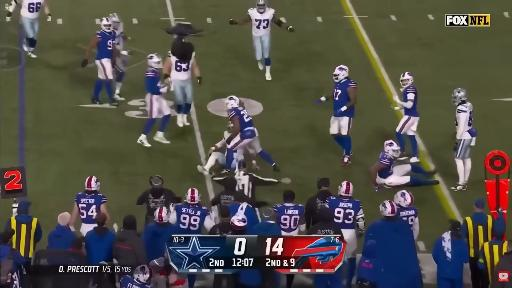Helmet: (133, 265, 153, 285), (394, 190, 413, 207), (384, 140, 400, 158), (380, 200, 397, 216), (231, 213, 247, 230), (333, 65, 349, 82), (155, 207, 170, 222), (186, 188, 200, 204), (339, 181, 353, 197), (452, 88, 466, 104), (225, 96, 240, 110), (147, 54, 162, 68), (85, 176, 99, 190), (400, 72, 413, 87), (109, 14, 121, 29), (100, 18, 112, 31), (257, 0, 266, 13), (227, 122, 233, 128)
Jersey: (327, 197, 363, 229), (175, 203, 210, 234), (75, 192, 107, 224), (274, 204, 304, 235), (333, 78, 356, 117), (168, 52, 195, 80), (248, 8, 274, 35), (228, 107, 254, 132), (456, 103, 474, 138), (96, 30, 116, 60), (402, 86, 419, 117), (398, 206, 418, 228), (145, 68, 161, 95), (378, 152, 394, 178), (21, 0, 44, 18), (120, 276, 150, 287), (214, 130, 231, 148), (114, 23, 124, 50)
Player: (230, 0, 294, 80), (225, 96, 279, 171), (327, 181, 365, 286), (371, 140, 438, 191), (82, 18, 118, 106), (163, 51, 202, 127), (138, 54, 170, 146), (330, 66, 356, 165), (452, 88, 476, 190), (70, 176, 109, 235), (198, 124, 243, 175), (394, 72, 419, 162), (170, 188, 214, 234), (20, 0, 51, 57), (109, 14, 129, 100), (274, 190, 305, 235), (394, 190, 419, 240), (120, 265, 153, 287)
